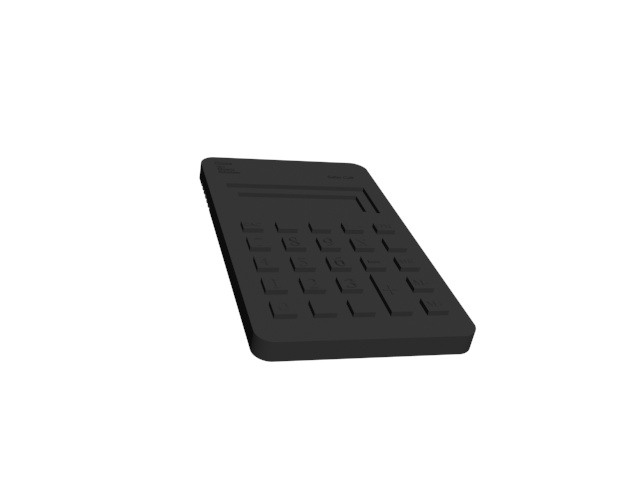calculator: (193, 153, 480, 368)
